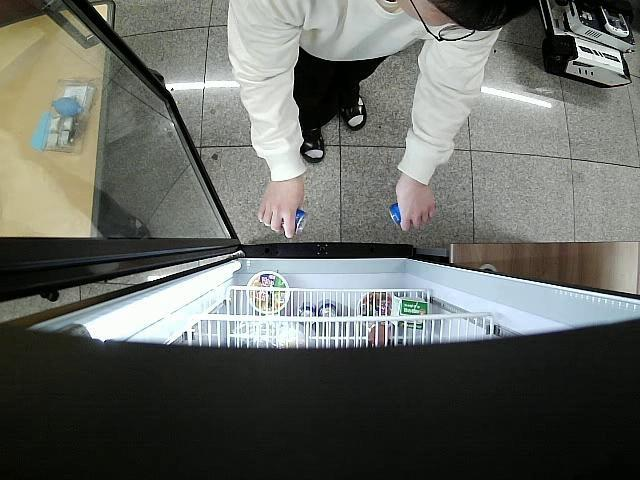15_letsbe: (281, 208, 309, 235), (386, 200, 401, 230)
